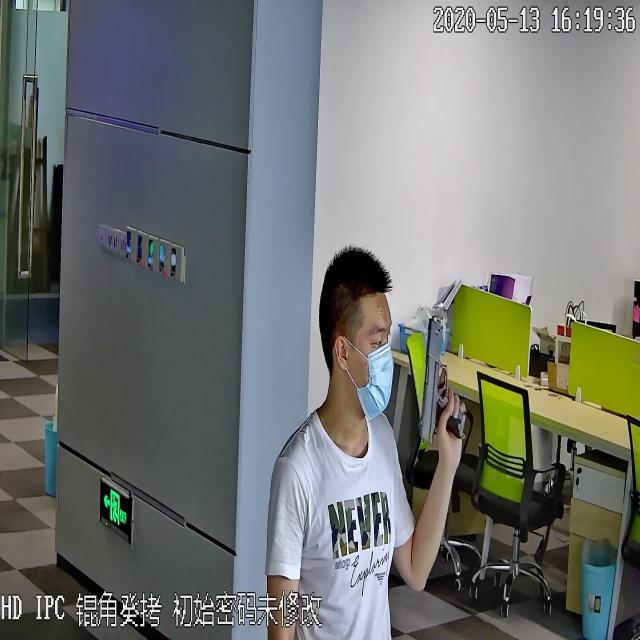gun: (407, 301, 475, 467)
